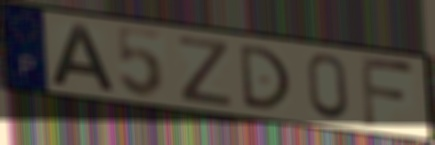0: (305, 52, 351, 122)
5: (115, 23, 167, 101)
A: (48, 21, 117, 93)
D: (236, 42, 293, 112)
F: (358, 53, 418, 131)
Z: (176, 33, 234, 109)
